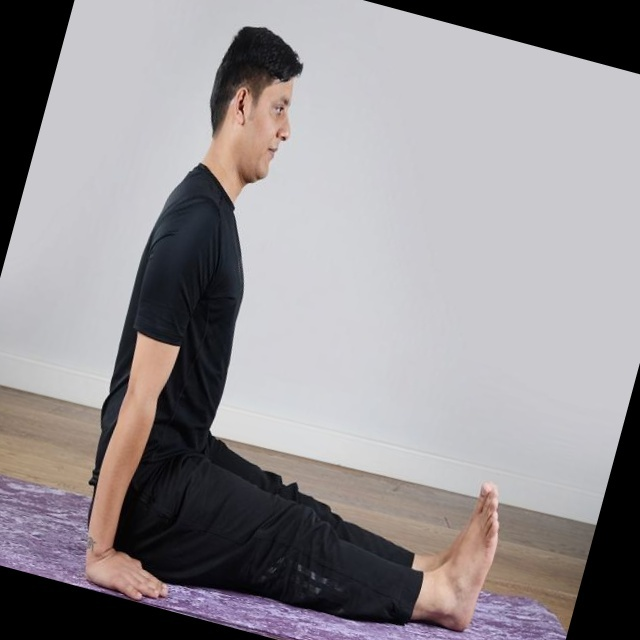Staff_Pose: (88, 26, 498, 636)
